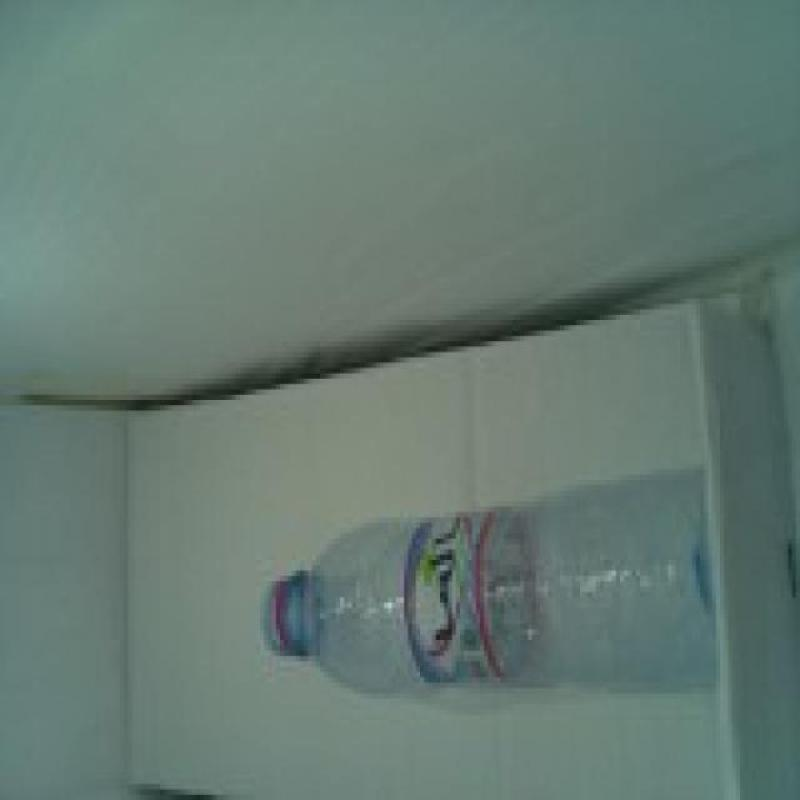botella: (263, 500, 718, 698)
